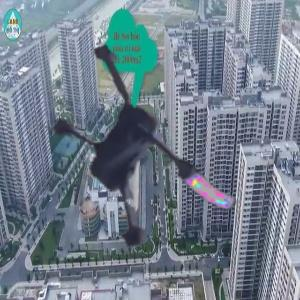drone: (20, 37, 272, 289)
